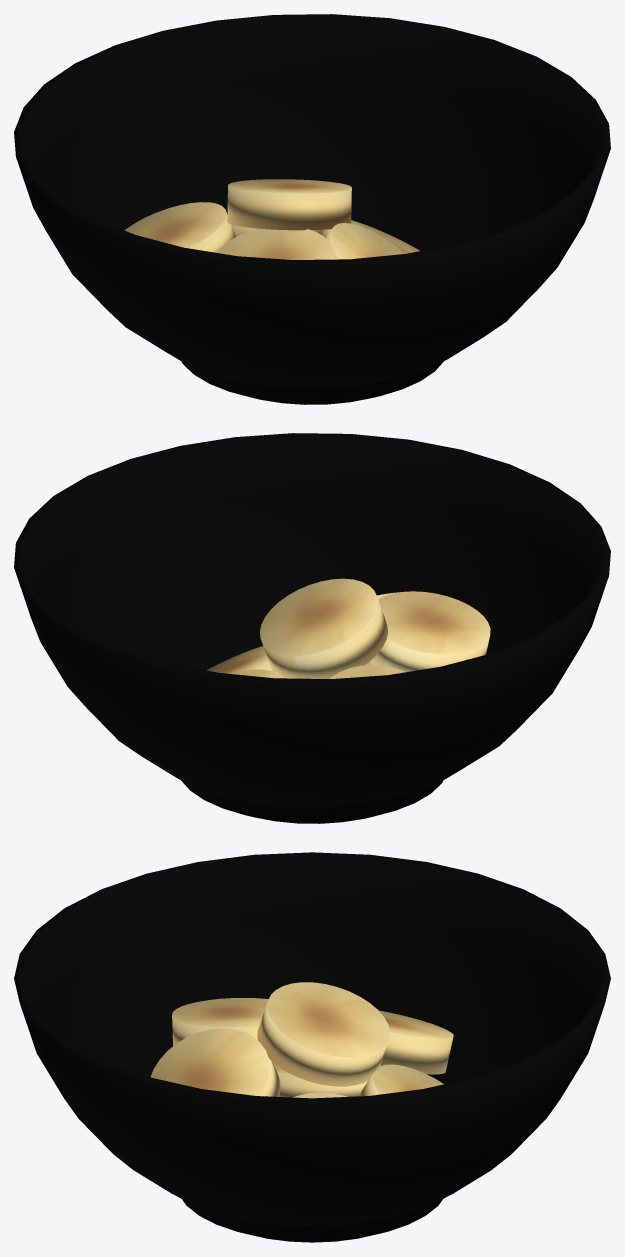
Rendered from pisang fixx.fbx.
The picture shows the model from 3 angles, top to bottom: view 1: azimuth 30°, elevation 25°; view 2: azimuth 150°, elevation 25°; view 3: azimuth 270°, elevation 25°; orthographic projection.
Parts seen in each view (by area): view 1: mangkok, Cylinder; view 2: mangkok, Cylinder; view 3: mangkok, Cylinder.
Boxes of the visible parts, box(x1,y1,x2,y2) form: mangkok: box(14, 14, 610, 404); Cylinder: box(124, 179, 419, 259); mangkok: box(14, 433, 610, 823); Cylinder: box(207, 578, 490, 678); mangkok: box(14, 852, 610, 1242); Cylinder: box(150, 982, 453, 1098).
Bounding box in the file's own units: 196 × 78.8 × 196.
